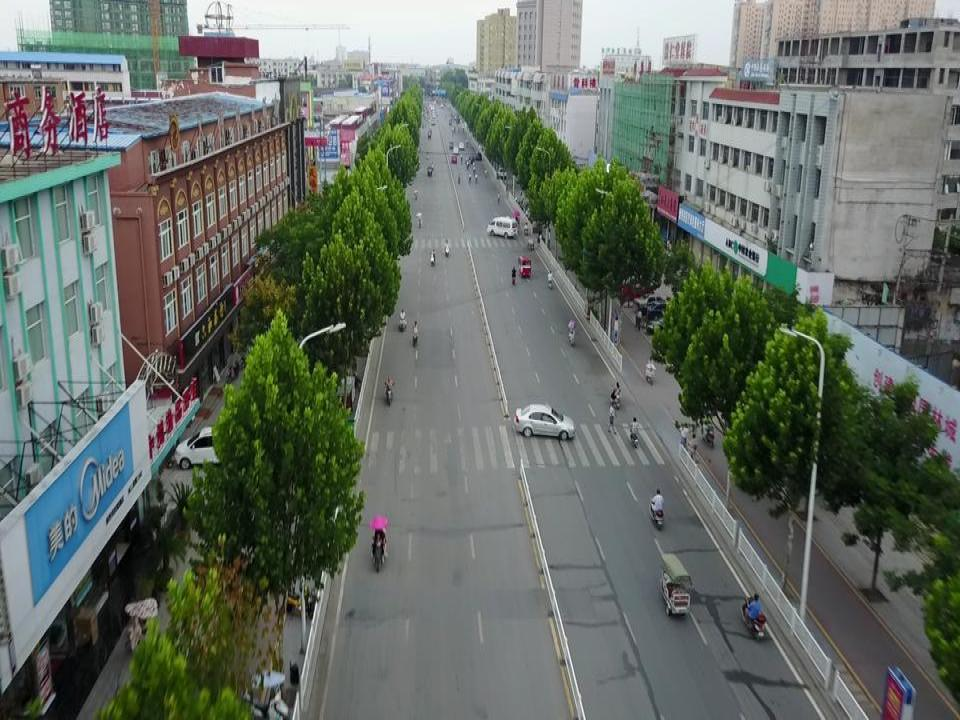car: (174, 424, 238, 469), (514, 401, 575, 440), (646, 313, 681, 335), (632, 292, 664, 316), (621, 280, 653, 301), (646, 300, 675, 320), (496, 166, 510, 178)
van: (487, 217, 518, 239)
